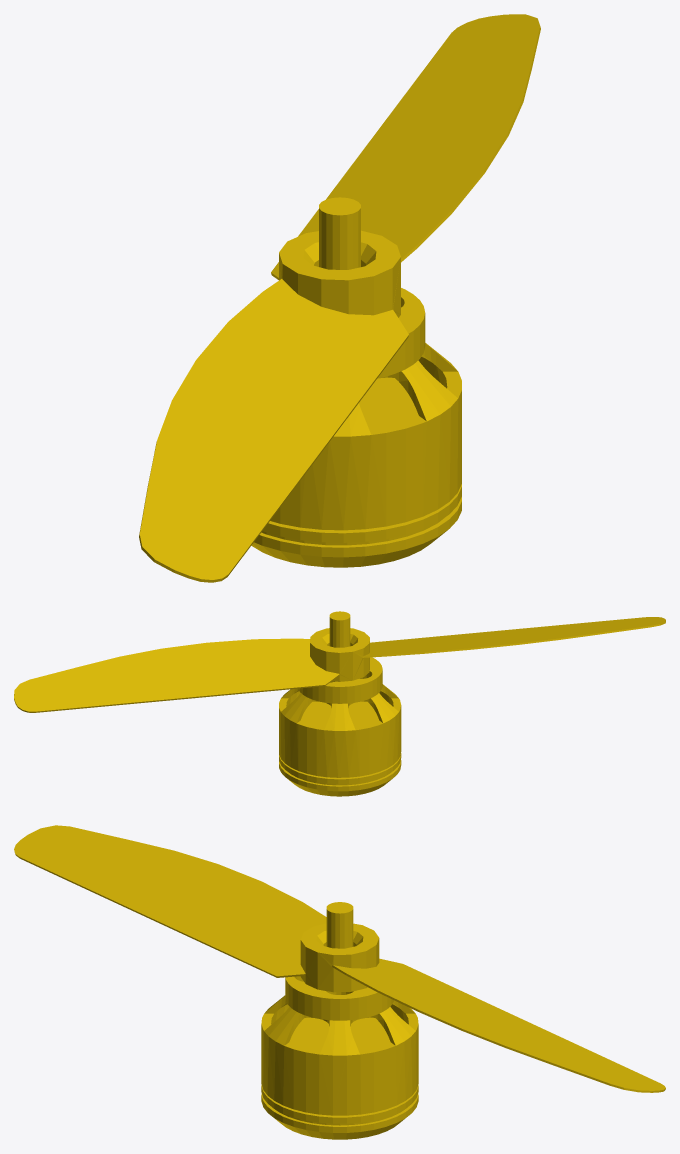
Rendered from motor2urss.dae.
The picture shows the model from 3 angles, top to bottom: view 1: azimuth 30°, elevation 25°; view 2: azimuth 150°, elevation 25°; view 3: azimuth 270°, elevation 25°; orthographic projection. The views are drawn at different scales.
Parts seen in each view (by area): view 1: motor2; view 2: motor2; view 3: motor2.
Part boxes in pixels (x1=…): motor2: x1=139, y1=14, x2=540, y2=582; motor2: x1=14, y1=611, x2=665, y2=796; motor2: x1=14, y1=825, x2=665, y2=1139.
Size of the model in its own units: 0.0909 by 0.0953 by 0.0348.
